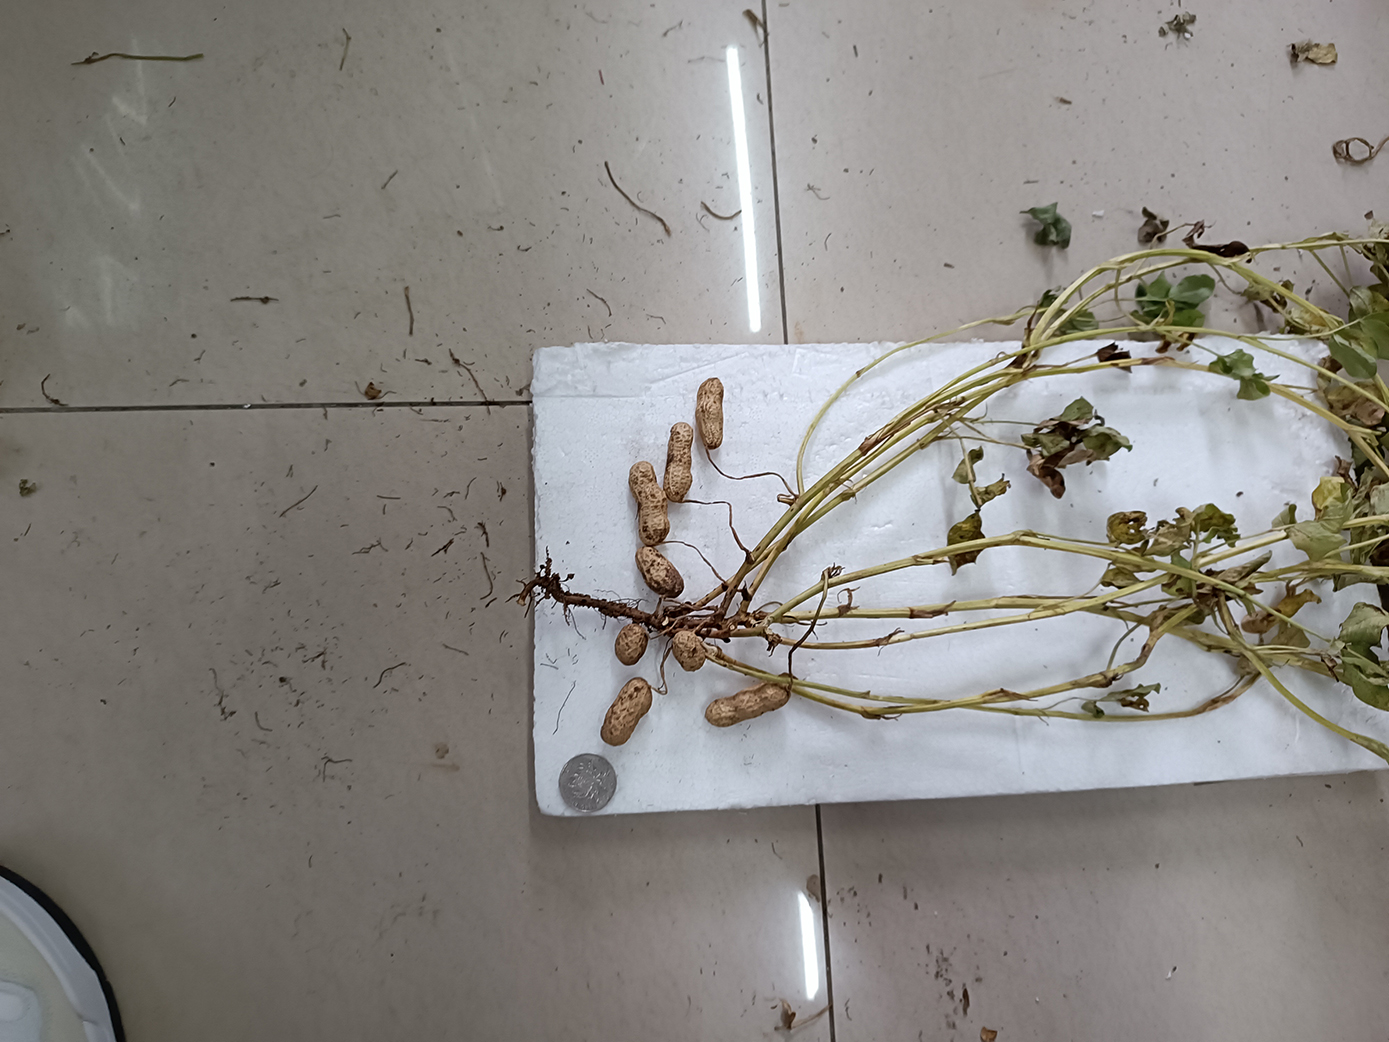h: (705, 682, 792, 727), (599, 678, 653, 746), (626, 461, 670, 545), (636, 545, 684, 597), (664, 422, 693, 503), (695, 378, 724, 450), (671, 630, 706, 672), (614, 625, 648, 665)
